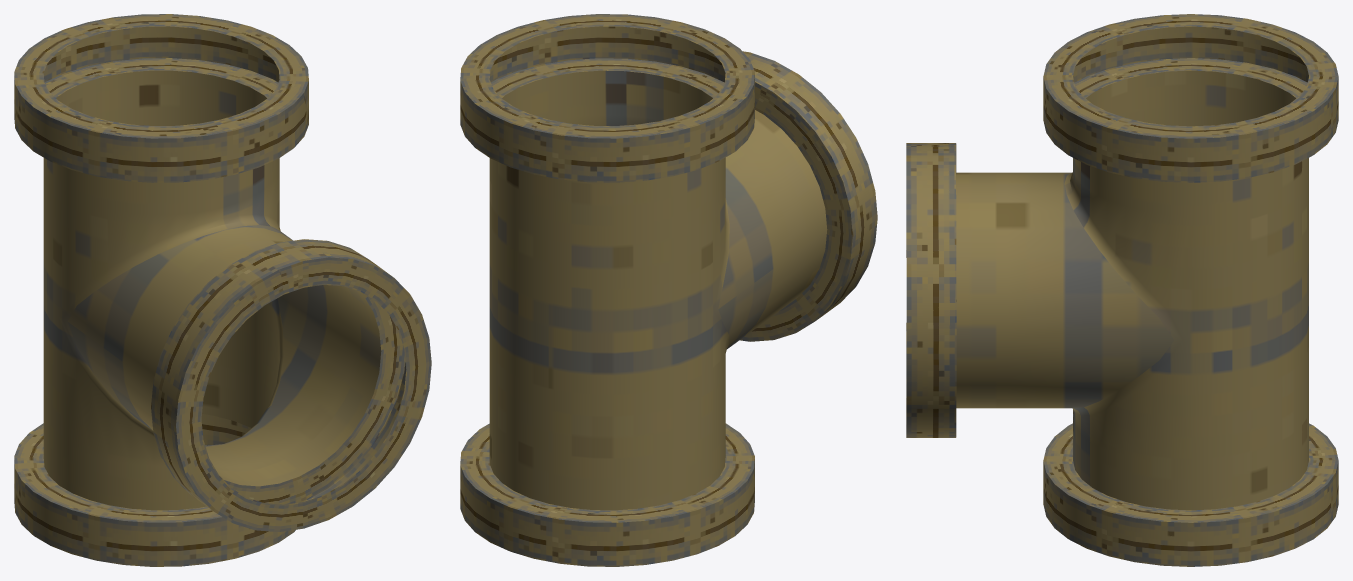
File: 3_WAY_JOINT.fbx
3 views of the same model, side by side, from view 1: azimuth 30°, elevation 25°; view 2: azimuth 150°, elevation 25°; view 3: azimuth 270°, elevation 25° (orthographic).
Parts seen in each view (by area): view 1: 3 WAY JOINT.002; view 2: 3 WAY JOINT.002; view 3: 3 WAY JOINT.002.
Boxes of the visible parts, x1,y1,x2,y2 form: 3 WAY JOINT.002: [14, 14, 431, 566]; 3 WAY JOINT.002: [460, 14, 877, 566]; 3 WAY JOINT.002: [906, 14, 1338, 566].
Size of the model in its own units: 250 by 400 by 366.
